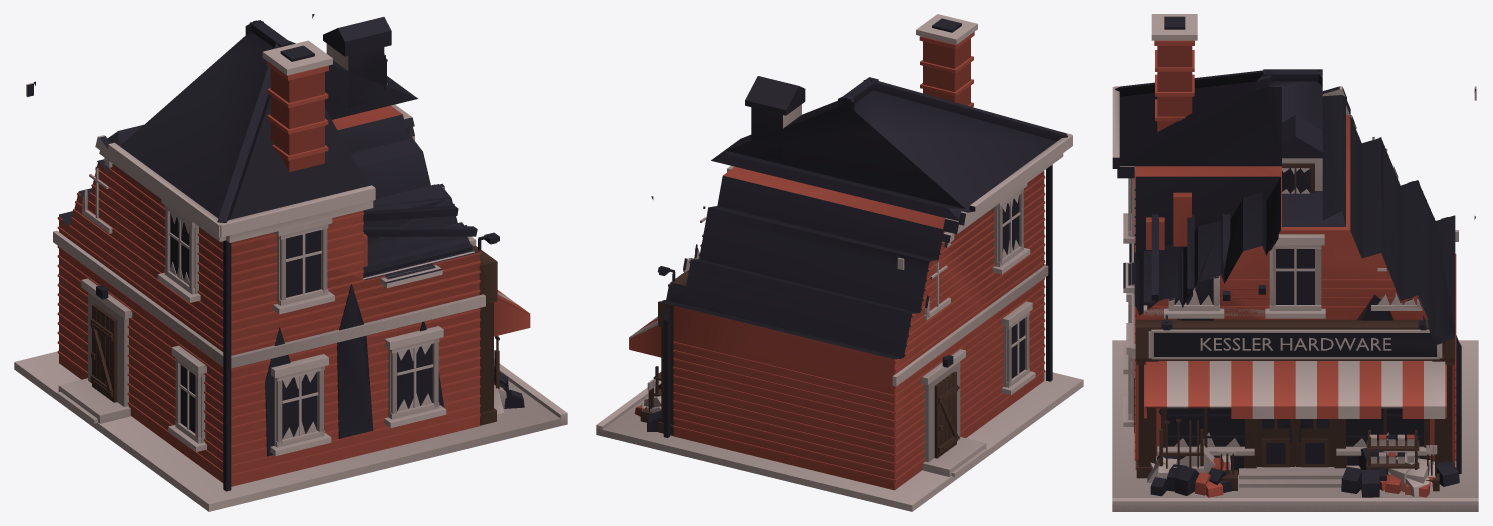
The model's file is bld.kessler-hardware.w5.lod1.glb.
3 views of the same model, side by side, from view 1: azimuth 30°, elevation 25°; view 2: azimuth 150°, elevation 25°; view 3: azimuth 270°, elevation 25° (orthographic). The views are drawn at different scales.
Parts seen in each view (by area): view 1: body, door_cellar; view 2: body, door_cellar; view 3: body.
Part boxes in pixels (bbox=[...]): body: bbox=[14, 14, 567, 511]; door_cellar: bbox=[90, 304, 117, 402]; body: bbox=[596, 14, 1083, 511]; door_cellar: bbox=[934, 371, 959, 458]; body: bbox=[1112, 14, 1478, 511].
Bounding box in the file's own units: 10.08 × 10.8 × 9.4.
